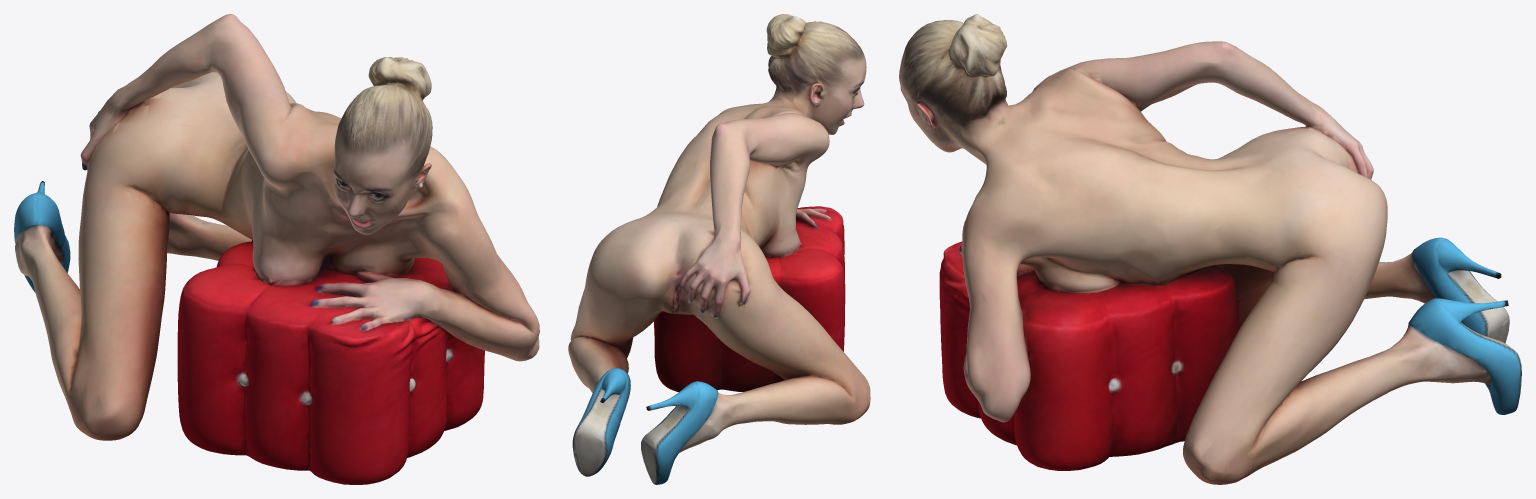
The model's file is dome00x2a.glb.
The picture shows the model from 3 angles, left to right: view 1: azimuth 30°, elevation 25°; view 2: azimuth 150°, elevation 25°; view 3: azimuth 270°, elevation 25°; orthographic projection. The views are drawn at different scales.
Visible parts, largest first — view 1: Atlas1; view 2: Atlas1; view 3: Atlas1.
Boxes of the visible parts, left/top/right/bottom form: Atlas1: left=14, top=14, right=539, bottom=484; Atlas1: left=568, top=14, right=870, bottom=484; Atlas1: left=899, top=14, right=1521, bottom=484.
Size of the model in its own units: 0.7889 by 0.8376 by 1.19.
Materials: 1 (1 with a texture image).
